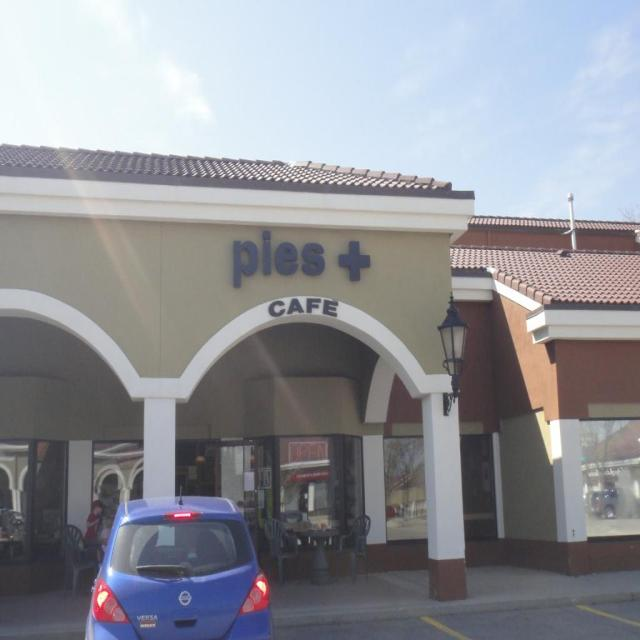car: (85, 492, 271, 632), (589, 484, 639, 522)
